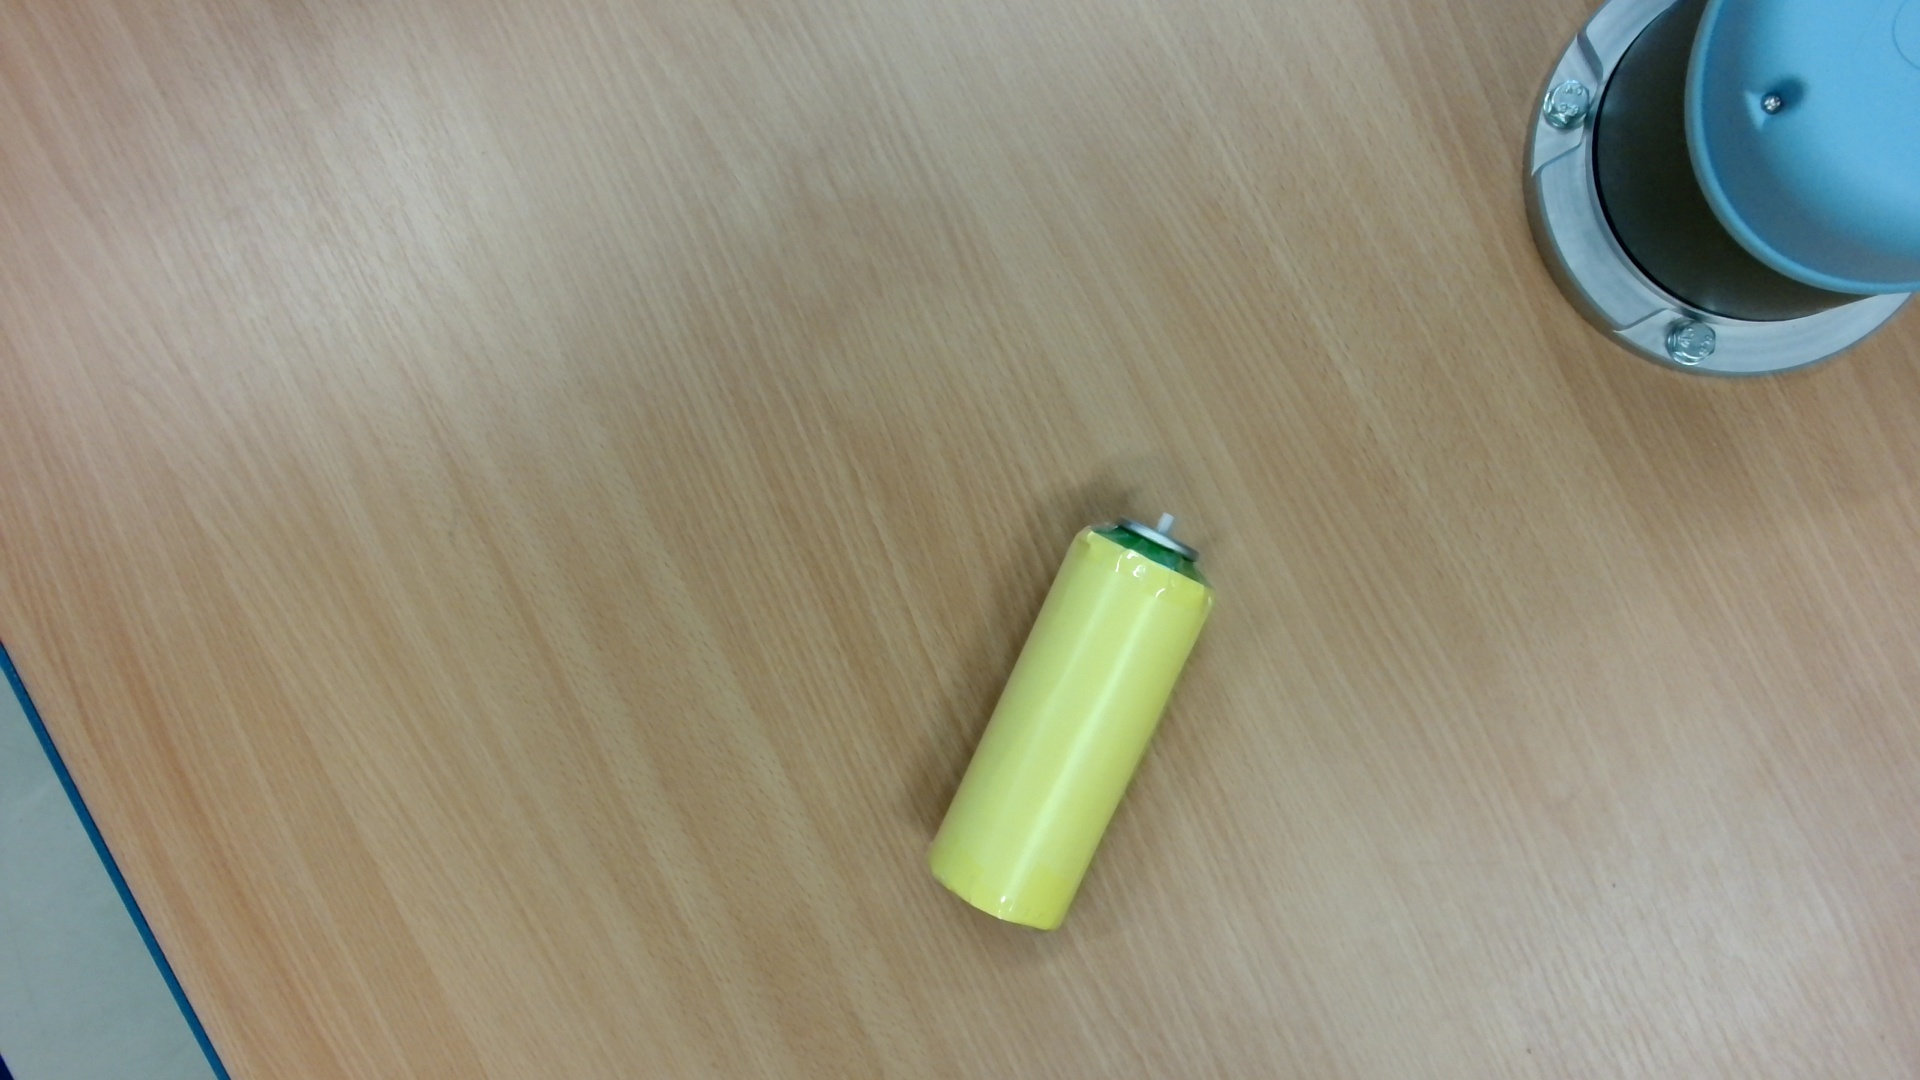Cylinder: (909, 487, 1226, 949)
